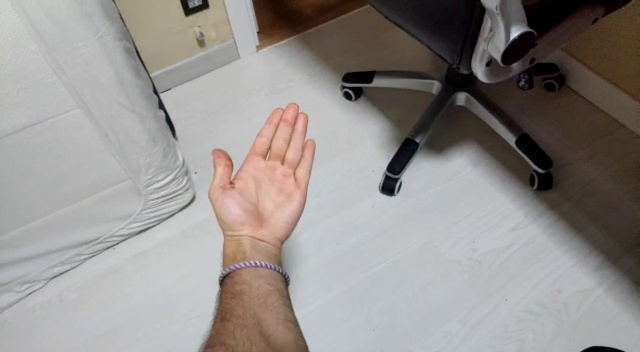Palm: (201, 101, 324, 242)
